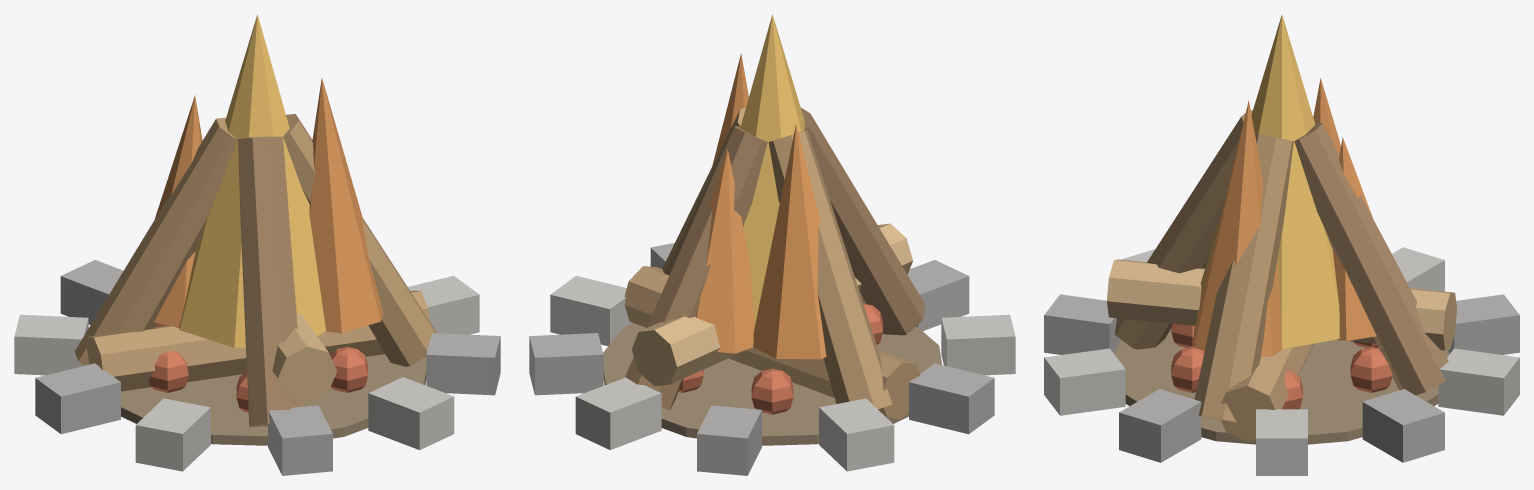
Rendered from ws_siege_campfire.glb.
3 renders of one model, left to right at view 1: azimuth 30°, elevation 25°; view 2: azimuth 150°, elevation 25°; view 3: azimuth 270°, elevation 25°, orthographic.
Visible parts, largest first — view 1: ws_siege_campfire; view 2: ws_siege_campfire; view 3: ws_siege_campfire.
Part boxes in pixels (box(x1,y1,x2,y2)): ws_siege_campfire: box(14, 14, 500, 475); ws_siege_campfire: box(529, 14, 1015, 475); ws_siege_campfire: box(1044, 15, 1519, 475).
Bounding box in the file's own units: 1.4 × 1.15 × 1.38.
